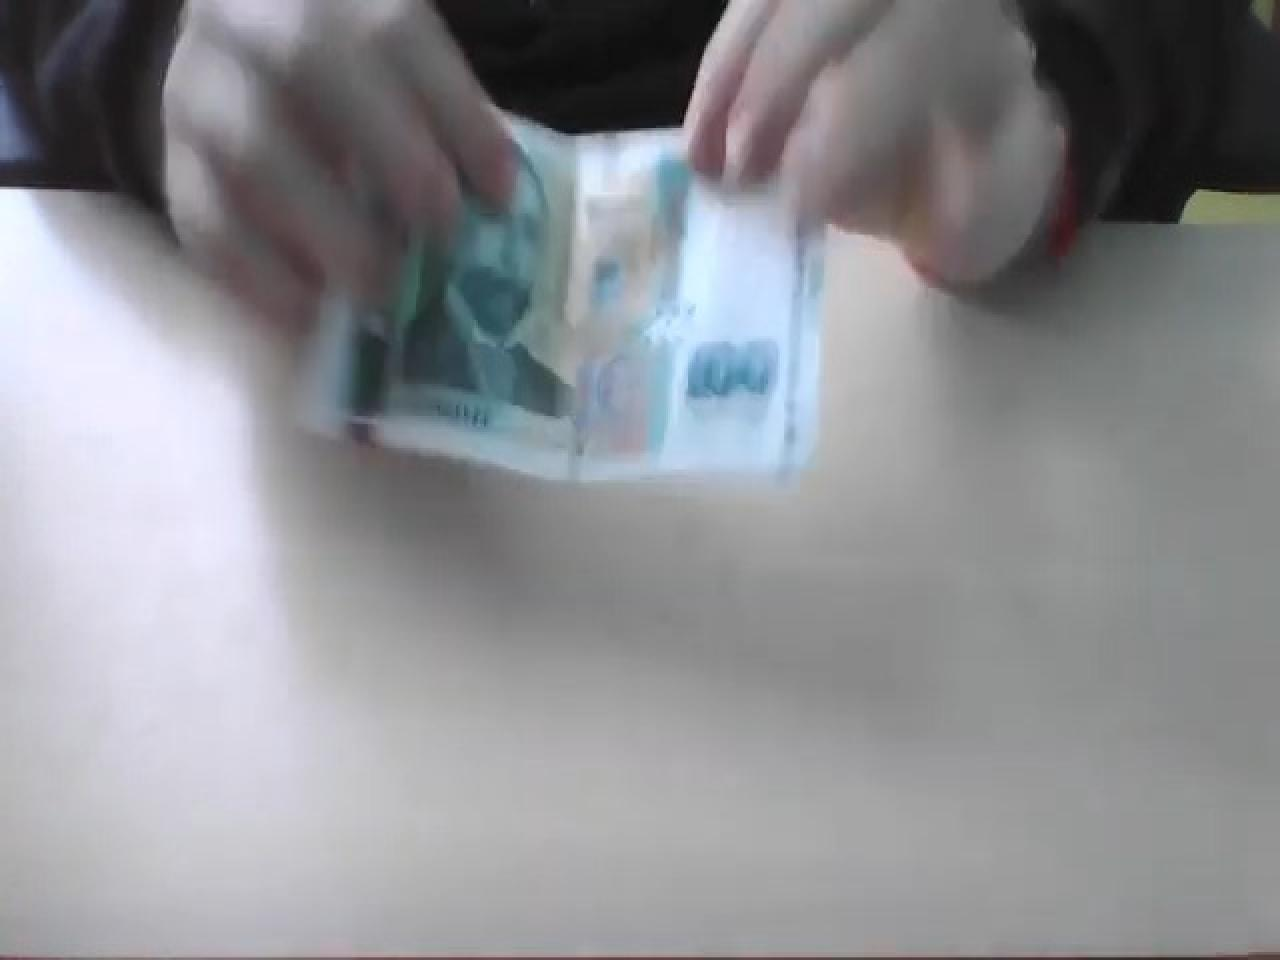100leva: (298, 107, 830, 490)
